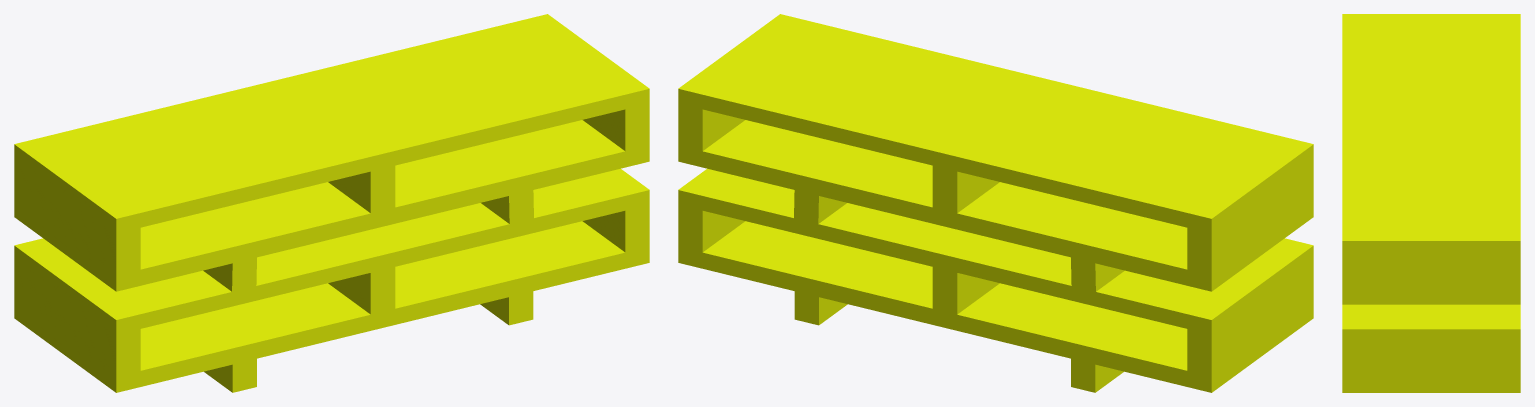
File: TVStand2.FBX
3 views of the same model, side by side, from view 1: azimuth 30°, elevation 25°; view 2: azimuth 150°, elevation 25°; view 3: azimuth 270°, elevation 25° (orthographic). The views are drawn at different scales.
Parts seen in each view (by area): view 1: Box025; view 2: Box025; view 3: Box025.
Boxes of the visible parts, x1,y1,x2,y2 form: Box025: (14,14,649,392); Box025: (678,14,1313,392); Box025: (1342,14,1520,392).
Size of the model in its own units: 2.12 by 0.7684 by 0.7026.
